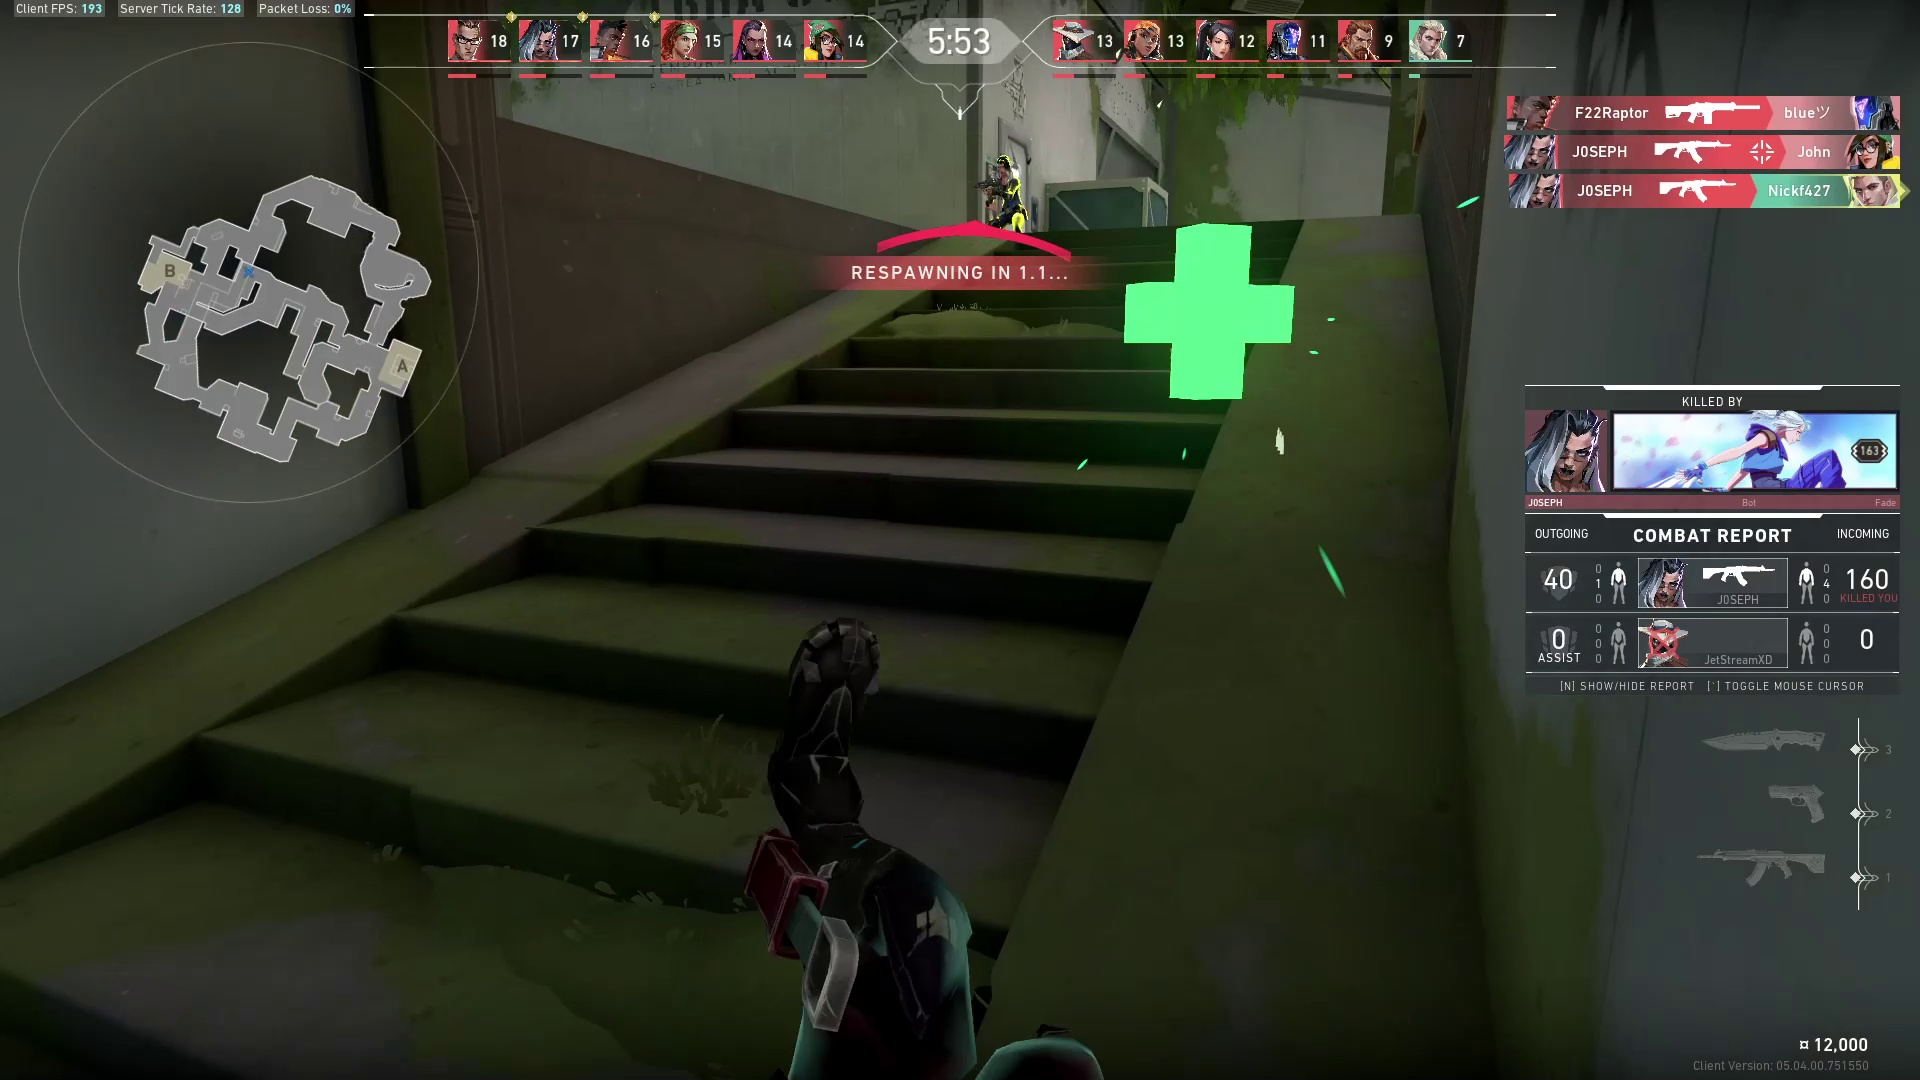enemy_body: (977, 171, 1039, 239)
enemy_head: (986, 145, 1018, 175)
